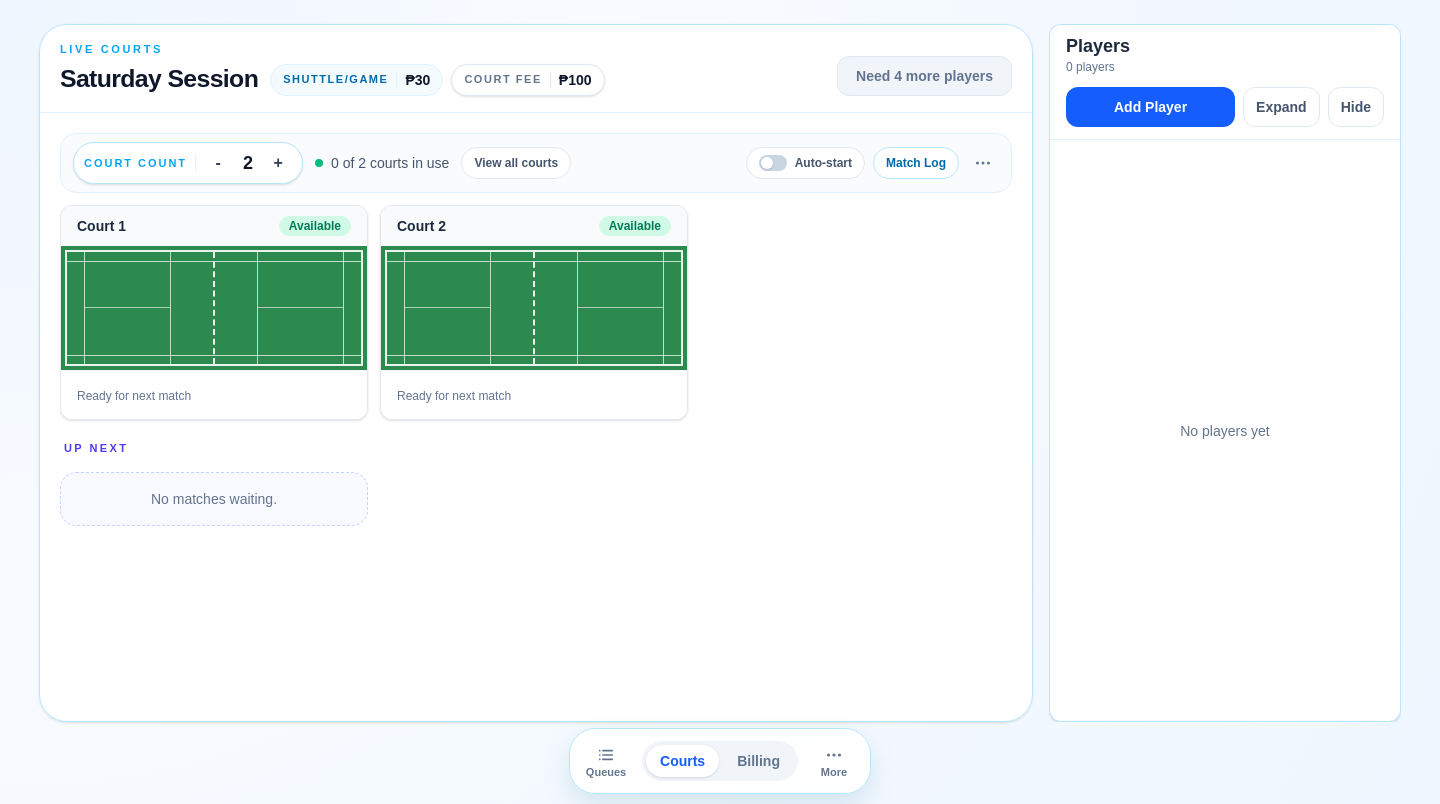
Test: Billing tab › marks a player paid with method and reference
This screenshot has width=1440, height=804.
Click the button "Billing".
click(759, 761)  # box [723,745,794,777]
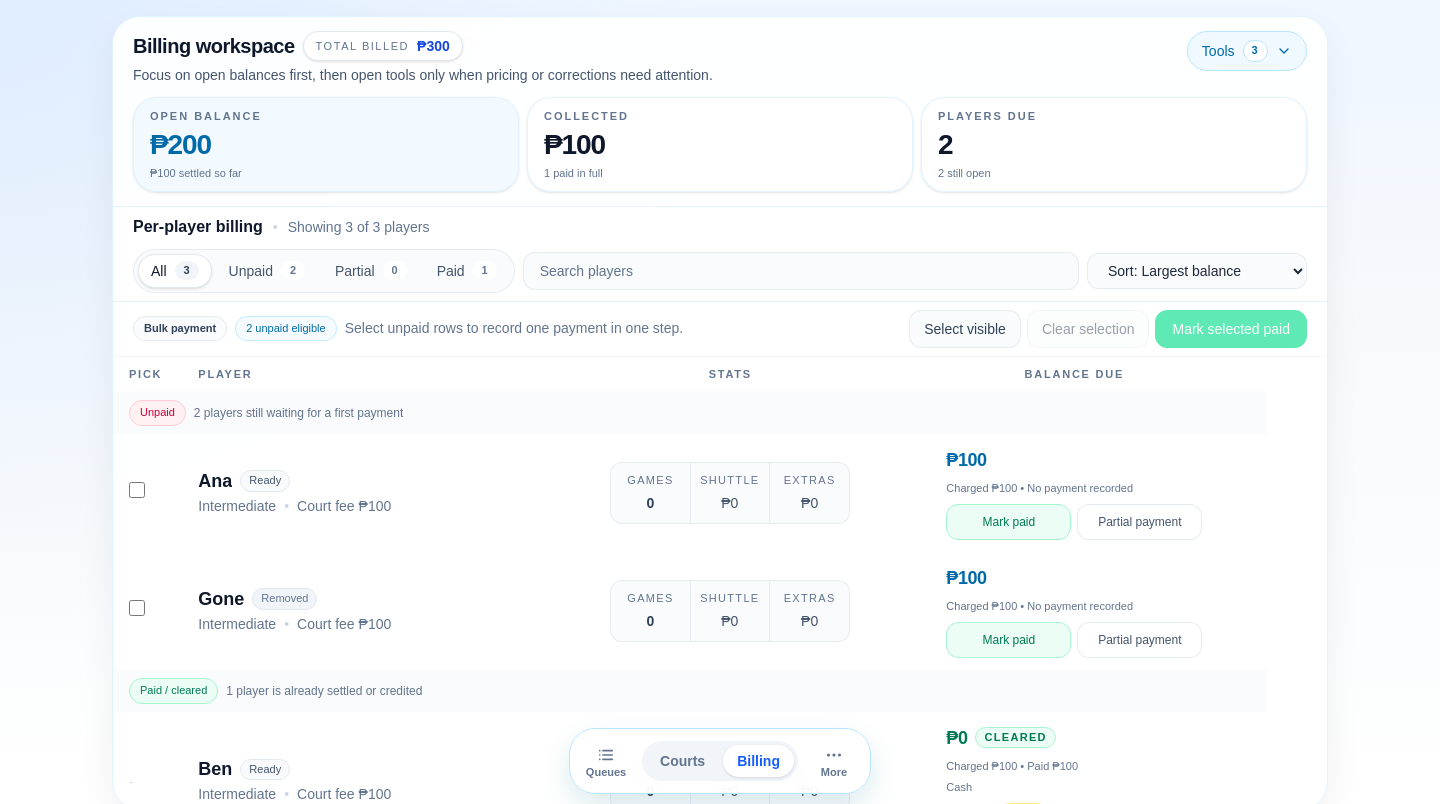
Result: the heading "Billing workspace" is shown at [133,32,295,60]
Click the button with aria-label "Mark Ana paid".
click(1009, 522)  # box [946,504,1071,540]
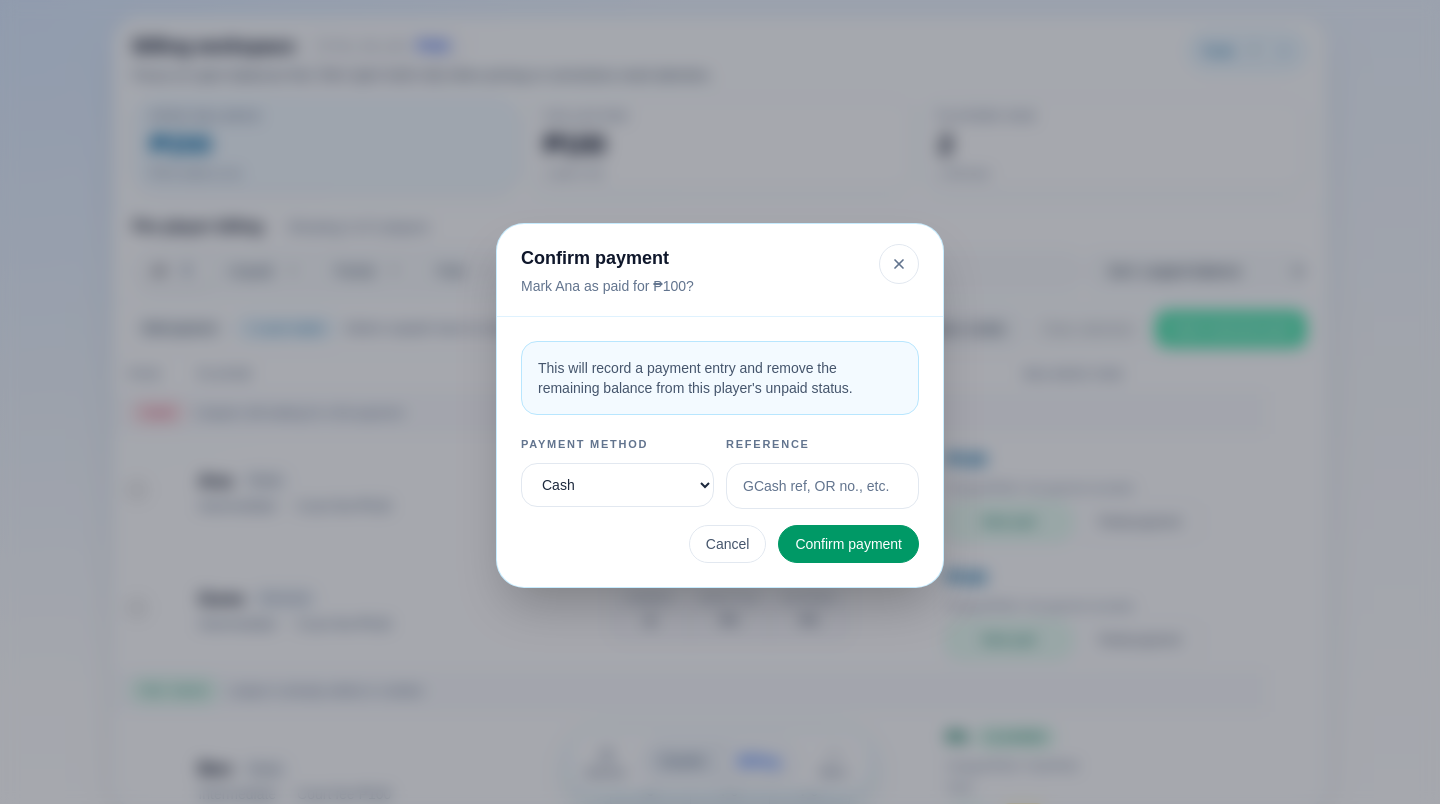
Result: the text "Mark Ana as paid for ₱100?" is shown at [521,278,694,294]
Select "GCash" in the dropdown labelled "Payment method" at (618, 484), box [521,462,714,506]
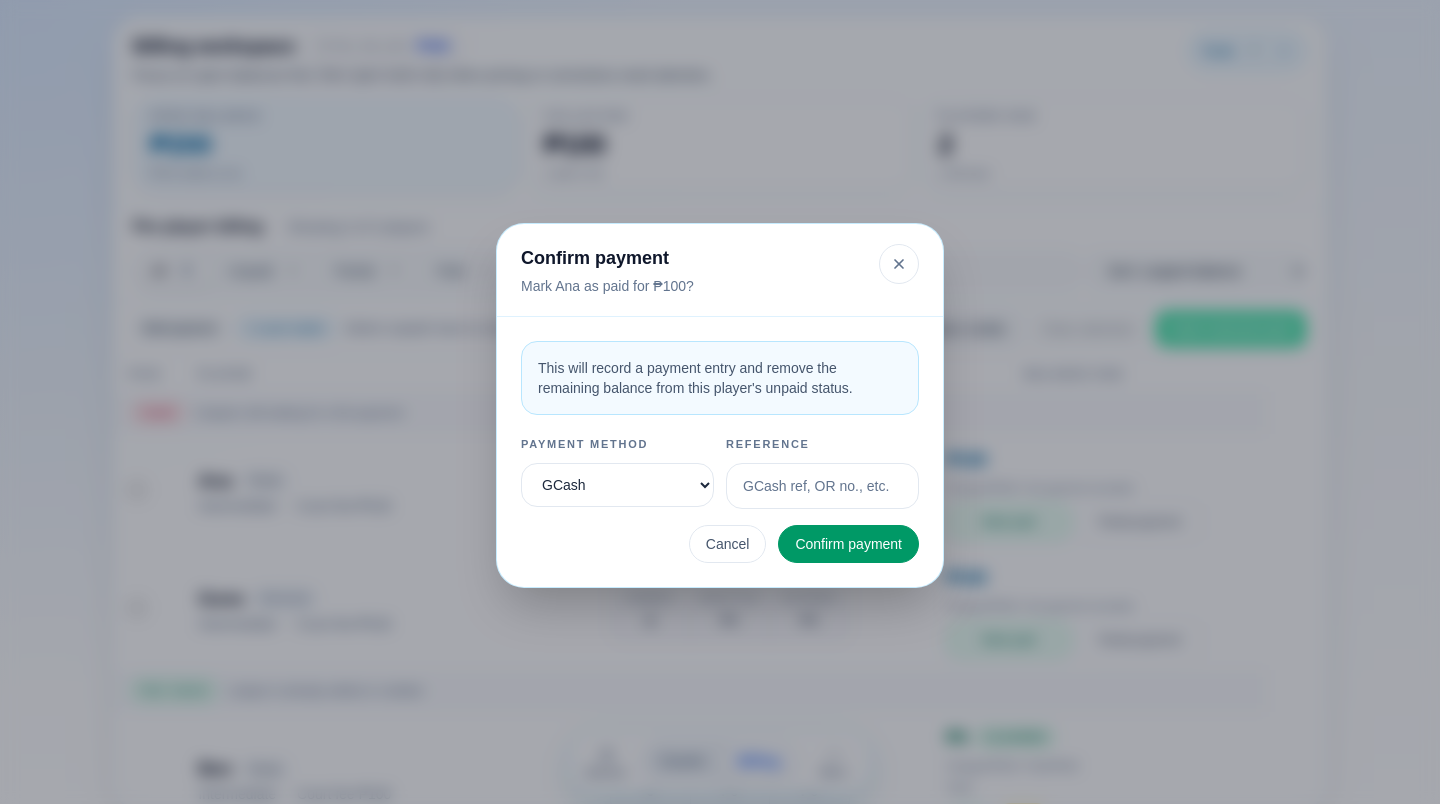
Type " 12345 " into the field labelled "Reference".
click(822, 486); type(" 12345 ")  # box [726,462,919,508]
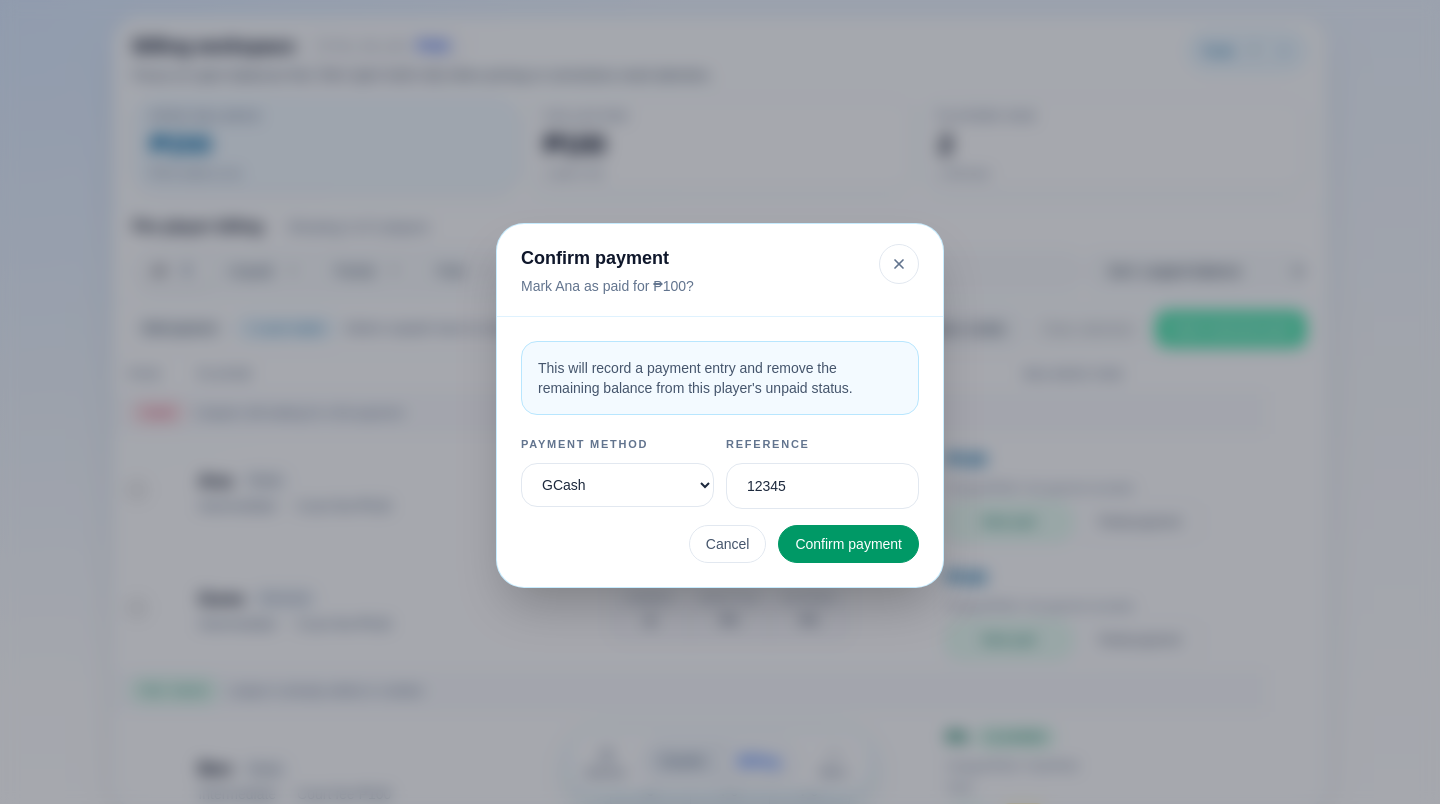
Click the button "Confirm payment".
click(849, 544)  # box [778,524,919,562]
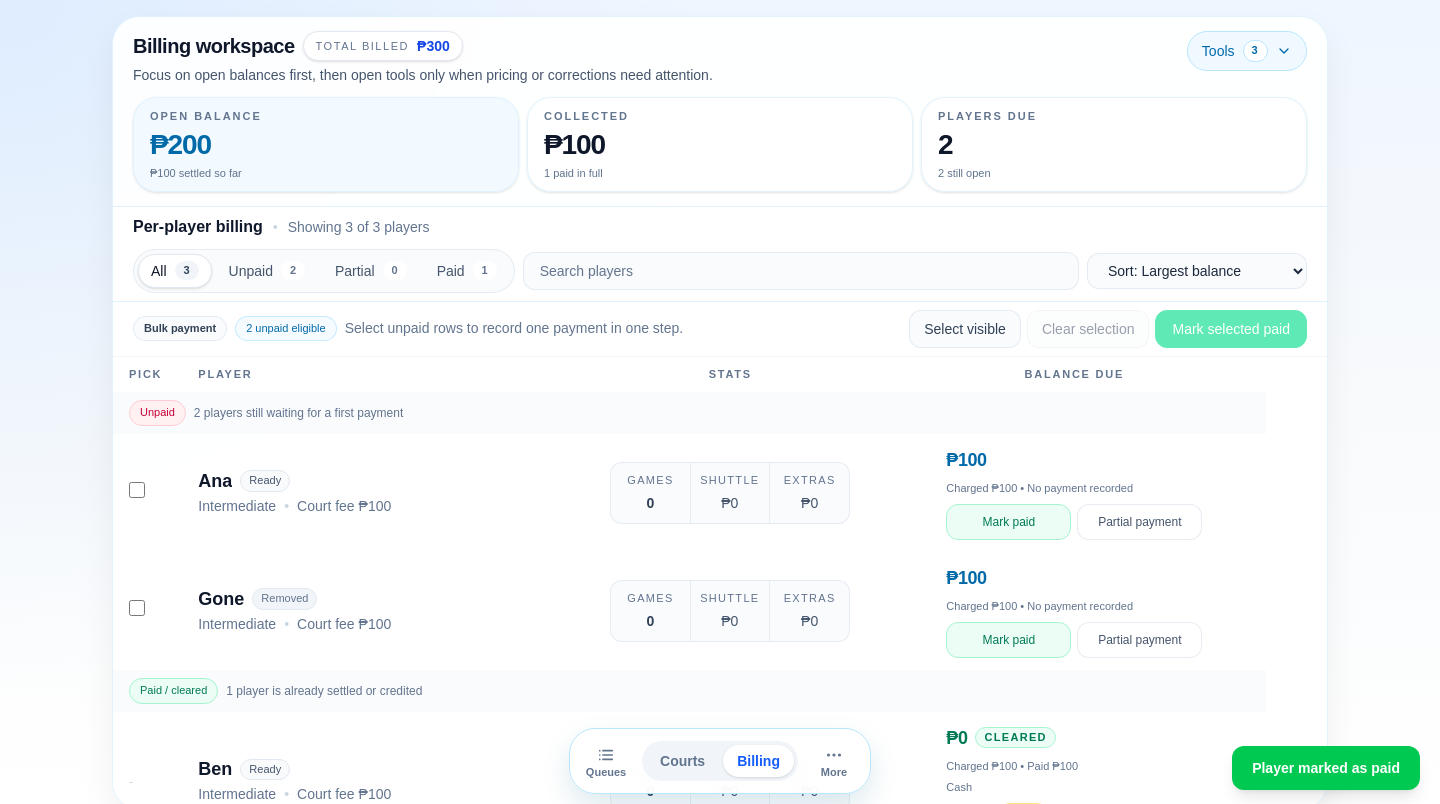
Result: the text "Player marked as paid" is shown at [1252,758,1400,778]
Result: the heading "Confirm payment" is gone
